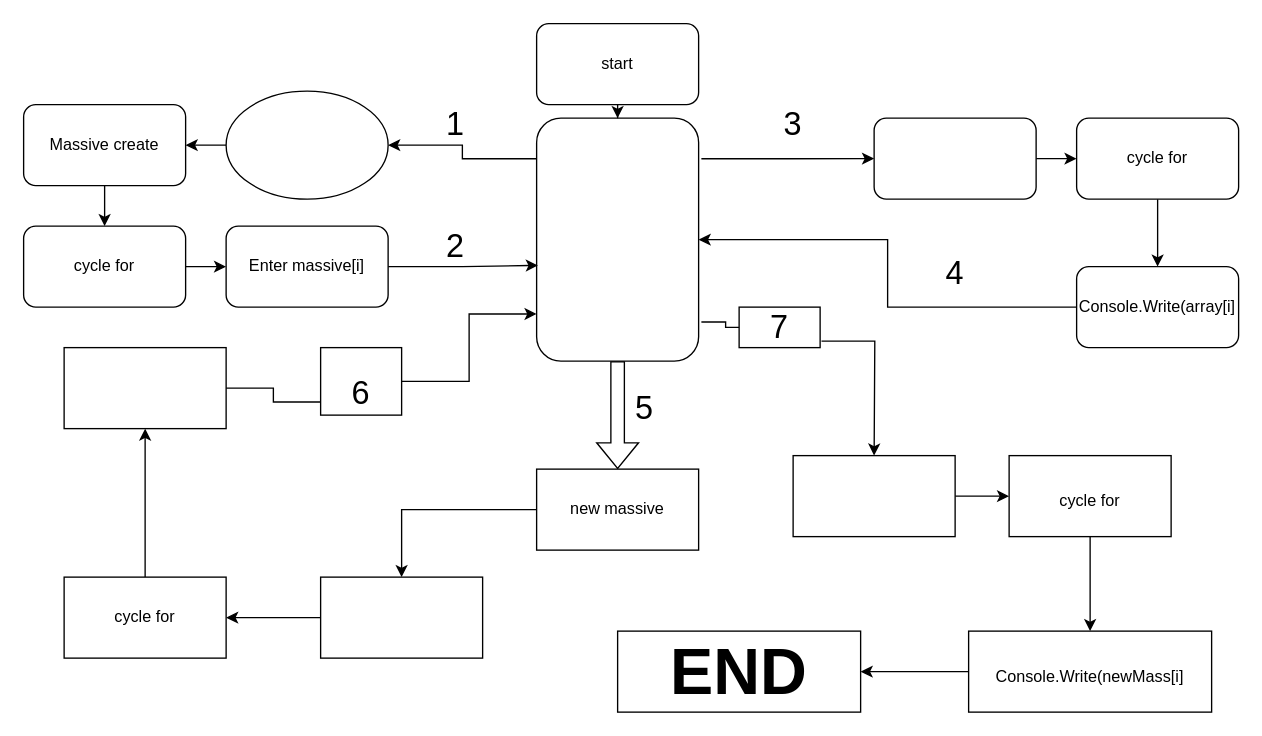
The diagram is 1262 pixels wide and 736 high, and some of its shapes have lost their labels. Here are the shapes that lost their labels. From the top down, the centre of each, then its label:
point (306, 144): string[] array
point (954, 158): print Array
point (617, 239): int main
point (144, 387): if() => newMassive[i] = array[i]
point (873, 495): PrintNewArray
point (401, 617): string[] newMassive
